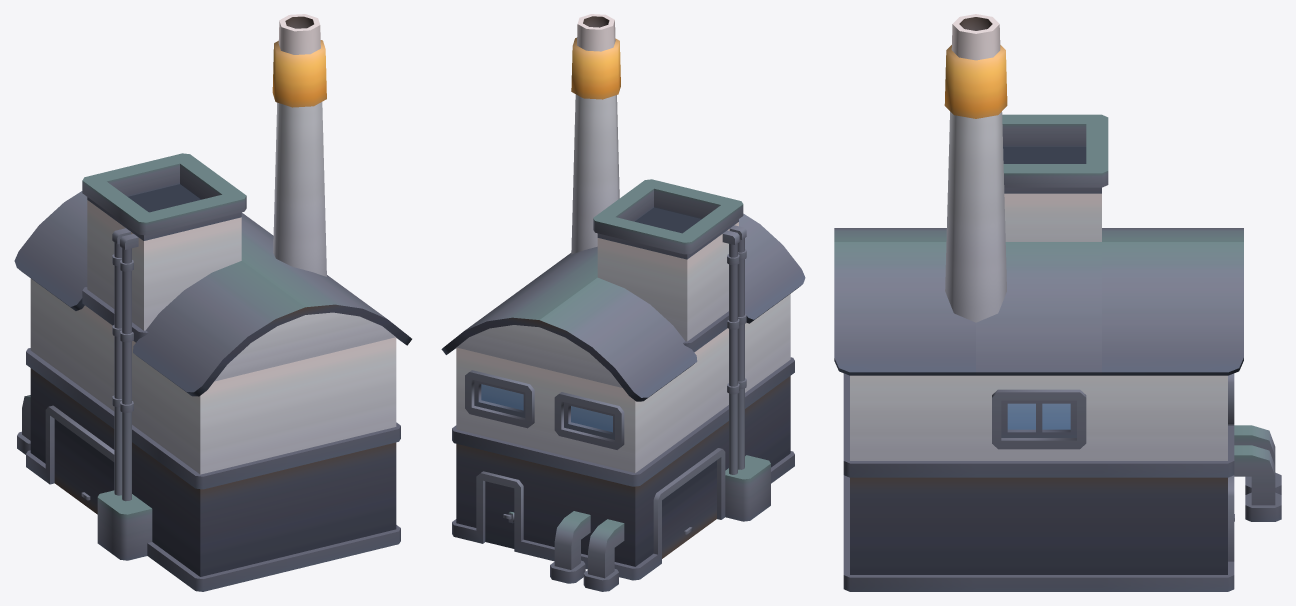
File: ind_building_n.glb
3 renders of one model, left to right at view 1: azimuth 30°, elevation 25°; view 2: azimuth 150°, elevation 25°; view 3: azimuth 270°, elevation 25°, orthographic. The views are drawn at different scales.
Visible parts, largest first — view 1: building-n; view 2: building-n; view 3: building-n.
Boxes of the visible parts, x1,y1,x2,y2 form: building-n: (14,14,411,591); building-n: (441,14,805,591); building-n: (834,14,1281,591).
Bounding box in the file's own units: 0.9766 × 1.9 × 1.42.
Materials: 1 (1 with a texture image).
